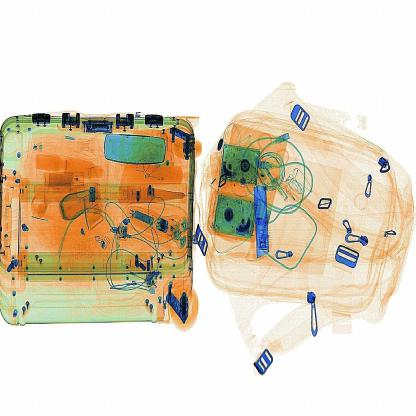pliers: (243, 172, 282, 269)
